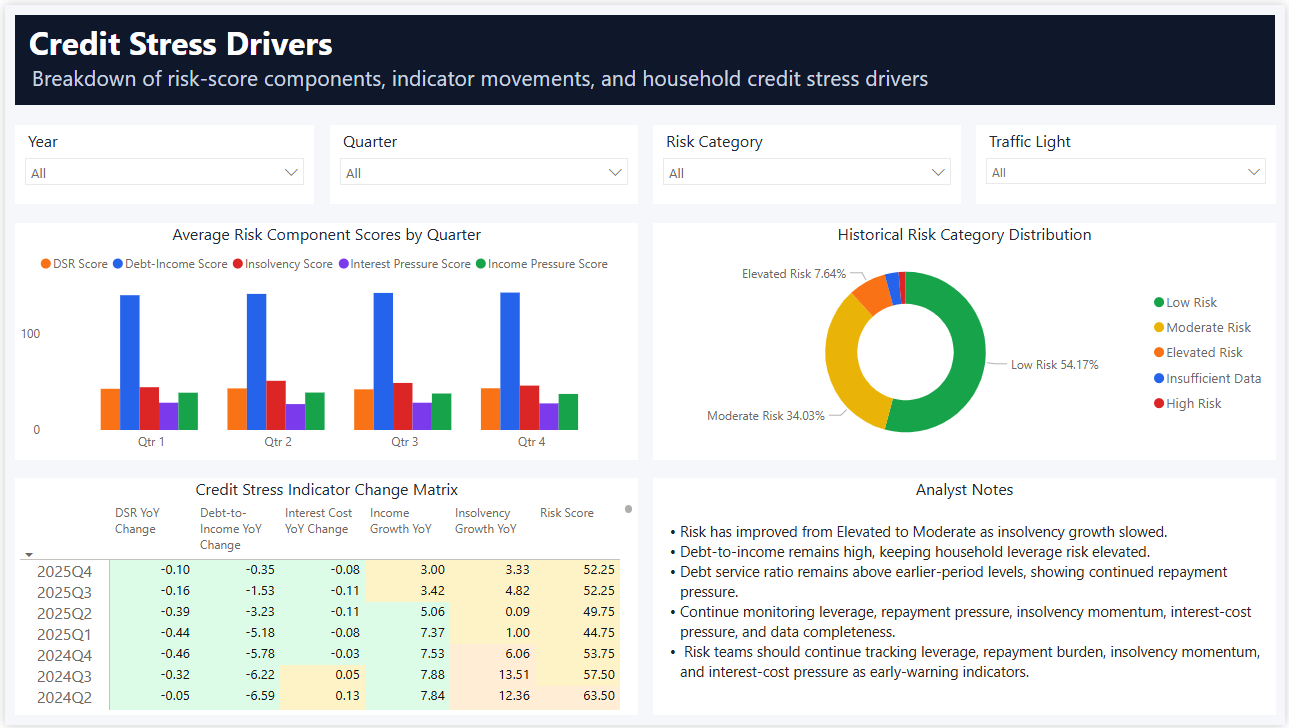

This screenshot's page, from the dashboard's own definition file:
{"tool":"powerbi","page":{"name":"Credit Stress Trends","canvas":[1280,720],"ordinal":1},"visuals":[{"type":"shape","box":[9.9,9.9,1260,90.4],"z":0},{"type":"textbox","box":[9.7,9.7,1204.3,90.8],"z":1000},{"type":"slicer","fields":{"Values":["powerbi_canada_credit_risk_dashboard.year"]},"box":[10.3,120,299.1,78.8],"z":2000},{"type":"slicer","fields":{"Values":["powerbi_canada_credit_risk_dashboard.risk_category"]},"box":[648,120,307.6,78.8],"z":3000},{"type":"slicer","fields":{"Values":["powerbi_canada_credit_risk_dashboard.risk_traffic_light"]},"box":[971.5,120,299.1,78.8],"z":4000},{"type":"slicer","fields":{"Values":["powerbi_canada_credit_risk_dashboard.date.Variation.Date Hierarchy.Quarter"]},"box":[325.4,120,307.6,78.8],"z":5000},{"type":"clusteredColumnChart","title":"Average Risk Component Scores by Quarter","fields":{"Category":["powerbi_canada_credit_risk_dashboard.date.Variation.Date Hierarchy.Quarter"],"Y":["Avg(powerbi_canada_credit_risk_dashboard.dsr_score)","Avg(powerbi_canada_credit_risk_dashboard.debt_to_disposable_income)","Avg(powerbi_canada_credit_risk_dashboard.insolvency_score)","Avg(powerbi_canada_credit_risk_dashboard.interest_pressure_score)","Avg(powerbi_canada_credit_risk_dashboard.income_pressure_score)"]},"box":[10.3,217.6,622.7,237.2],"z":6000},{"type":"donutChart","title":"Historical Risk Category Distribution","fields":{"Category":["powerbi_canada_credit_risk_dashboard.risk_category"],"Y":["CountNonNull(powerbi_canada_credit_risk_dashboard.date)"]},"box":[648,217.6,622.7,237.2],"z":7000},{"type":"pivotTable","title":"Credit Stress Indicator Change Matrix","fields":{"Values":["Sum(powerbi_canada_credit_risk_dashboard.debt_service_ratio_change_yoy)","Sum(powerbi_canada_credit_risk_dashboard.debt_to_income_change_yoy)","Sum(powerbi_canada_credit_risk_dashboard.interest_cost_change_yoy)","Sum(powerbi_canada_credit_risk_dashboard.disposable_income_growth_yoy)","Sum(powerbi_canada_credit_risk_dashboard.insolvency_growth_yoy)","Sum(powerbi_canada_credit_risk_dashboard.risk_score)"],"Rows":["powerbi_canada_credit_risk_dashboard.quarter"]},"box":[10.3,472.6,622.7,237.2],"z":8000},{"type":"textbox","title":"Analyst Notes","box":[648,473,623,237],"z":9000}]}

Visuals, with their boxes in screenshot pixels (x1, y1, x2, y2), scaled from the page's 1280x720 canvas onto the 1289x728 screenshot:
shape: (10, 10, 1279, 101)
textbox: (10, 10, 1223, 102)
slicer - powerbi_canada_credit_risk_dashboard.year: (10, 121, 312, 201)
slicer - powerbi_canada_credit_risk_dashboard.risk_category: (653, 121, 962, 201)
slicer - powerbi_canada_credit_risk_dashboard.risk_traffic_light: (978, 121, 1280, 201)
slicer - powerbi_canada_credit_risk_dashboard.date.Variation.Date Hierarchy.Quarter: (328, 121, 637, 201)
"Average Risk Component Scores by Quarter" clusteredColumnChart: (10, 220, 637, 460)
"Historical Risk Category Distribution" donutChart: (653, 220, 1280, 460)
"Credit Stress Indicator Change Matrix" pivotTable: (10, 478, 637, 718)
"Analyst Notes" textbox: (653, 478, 1280, 718)
